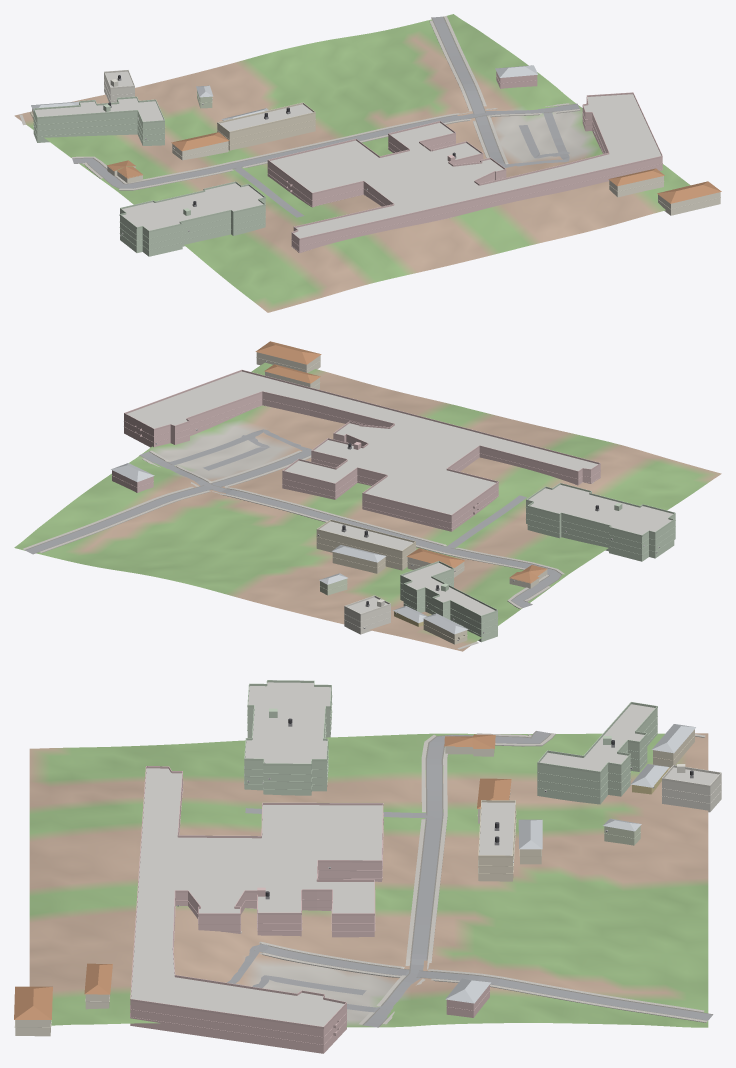
3 views of the same model, one above another, from view 1: azimuth 30°, elevation 25°; view 2: azimuth 150°, elevation 25°; view 3: azimuth 270°, elevation 25° (orthographic). The views are drawn at different scales.
Visible parts, largest first — view 1: Terrain-col, Buildings-col, Details, Roads-col, Sidewalks-col; view 2: Terrain-col, Buildings-col, Details, Roads-col, Sidewalks-col; view 3: Terrain-col, Buildings-col, Roads-col, Details, Sidewalks-col.
Part boxes in pixels (x1,y1,x2,y2): Terrain-col: [14, 14, 690, 312]; Buildings-col: [31, 65, 721, 256]; Details: [30, 70, 720, 252]; Roads-col: [72, 16, 579, 217]; Sidewalks-col: [19, 16, 580, 190]; Terrain-col: [14, 362, 721, 651]; Buildings-col: [111, 341, 675, 644]; Details: [112, 357, 675, 640]; Roads-col: [25, 429, 561, 607]; Sidewalks-col: [23, 450, 564, 649]; Terrain-col: [29, 733, 708, 1027]; Buildings-col: [14, 682, 721, 1053]; Roads-col: [227, 731, 713, 1027]; Details: [14, 680, 721, 1045]; Sidewalks-col: [259, 733, 707, 1024].
Size of the model in its own units: 302 by 19.88 by 267.
